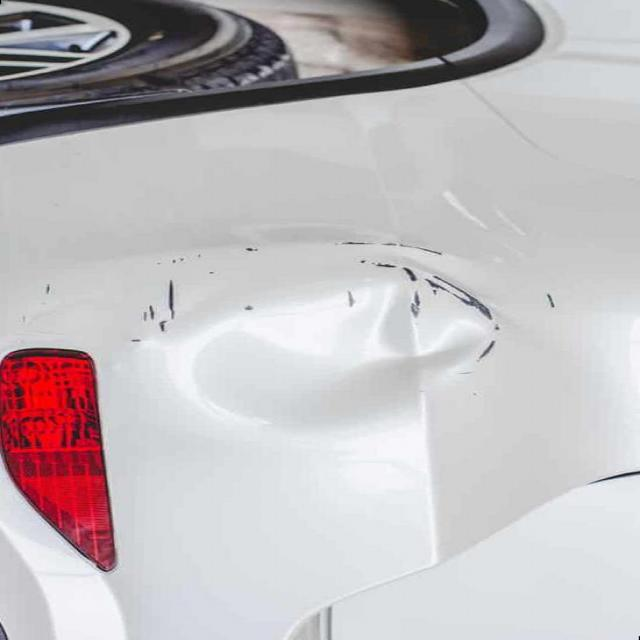dent: (125, 216, 496, 447)
